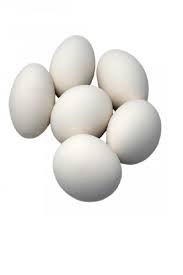eggs: (49, 138, 122, 203), (55, 83, 115, 142), (109, 101, 162, 166), (6, 61, 46, 133), (100, 50, 149, 108), (44, 29, 92, 85)
